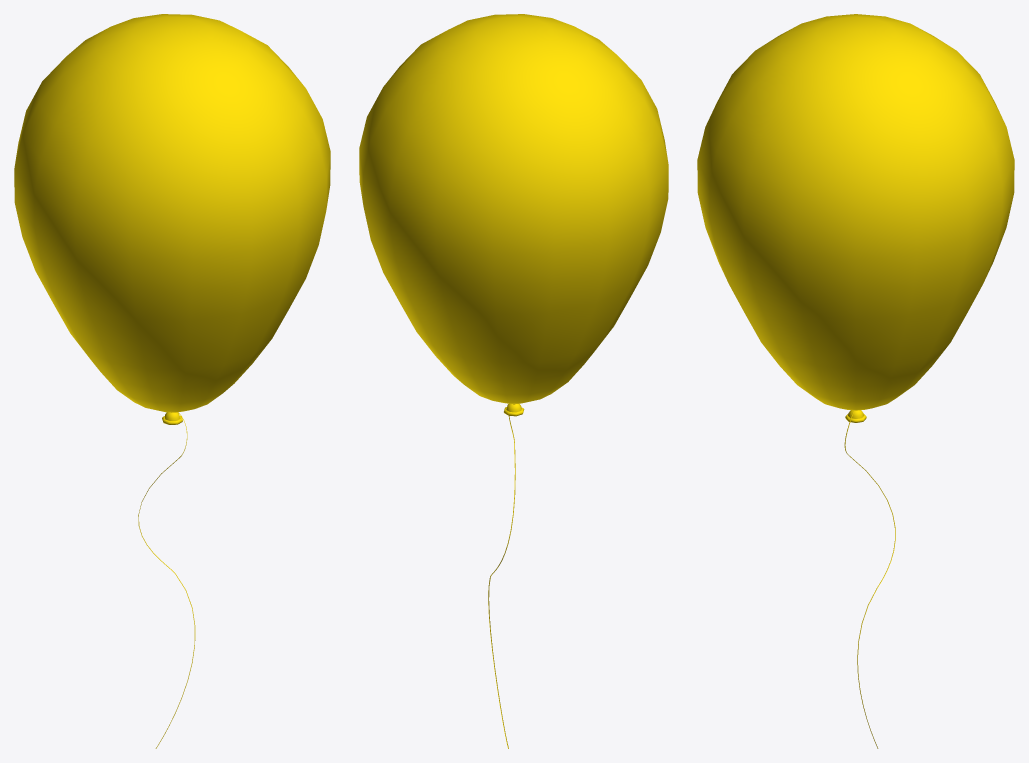
File: yellow_balloon.fbx
3 views of the same model, side by side, from view 1: azimuth 30°, elevation 25°; view 2: azimuth 150°, elevation 25°; view 3: azimuth 270°, elevation 25° (orthographic). The views are drawn at different scales.
Visible parts, largest first — view 1: Balloon.007; view 2: Balloon.007; view 3: Balloon.007.
Boxes of the visible parts, box(x1,y1,x2,y2) form: Balloon.007: box(14, 14, 330, 748); Balloon.007: box(359, 14, 668, 748); Balloon.007: box(697, 14, 1014, 748).
Size of the model in its own units: 26.48 by 66.4 by 26.48.
